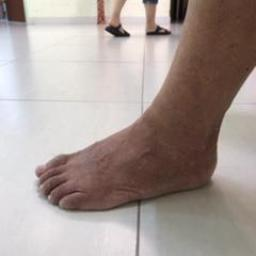Lateral View -Left Foot-: (17, 70, 240, 230)
